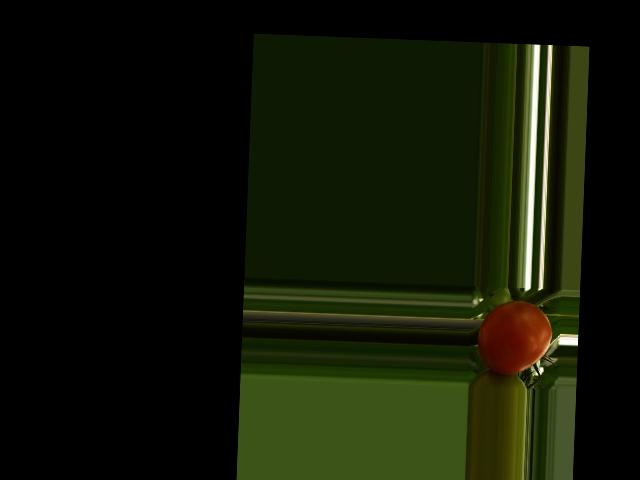tomato: (476, 299, 553, 376)
